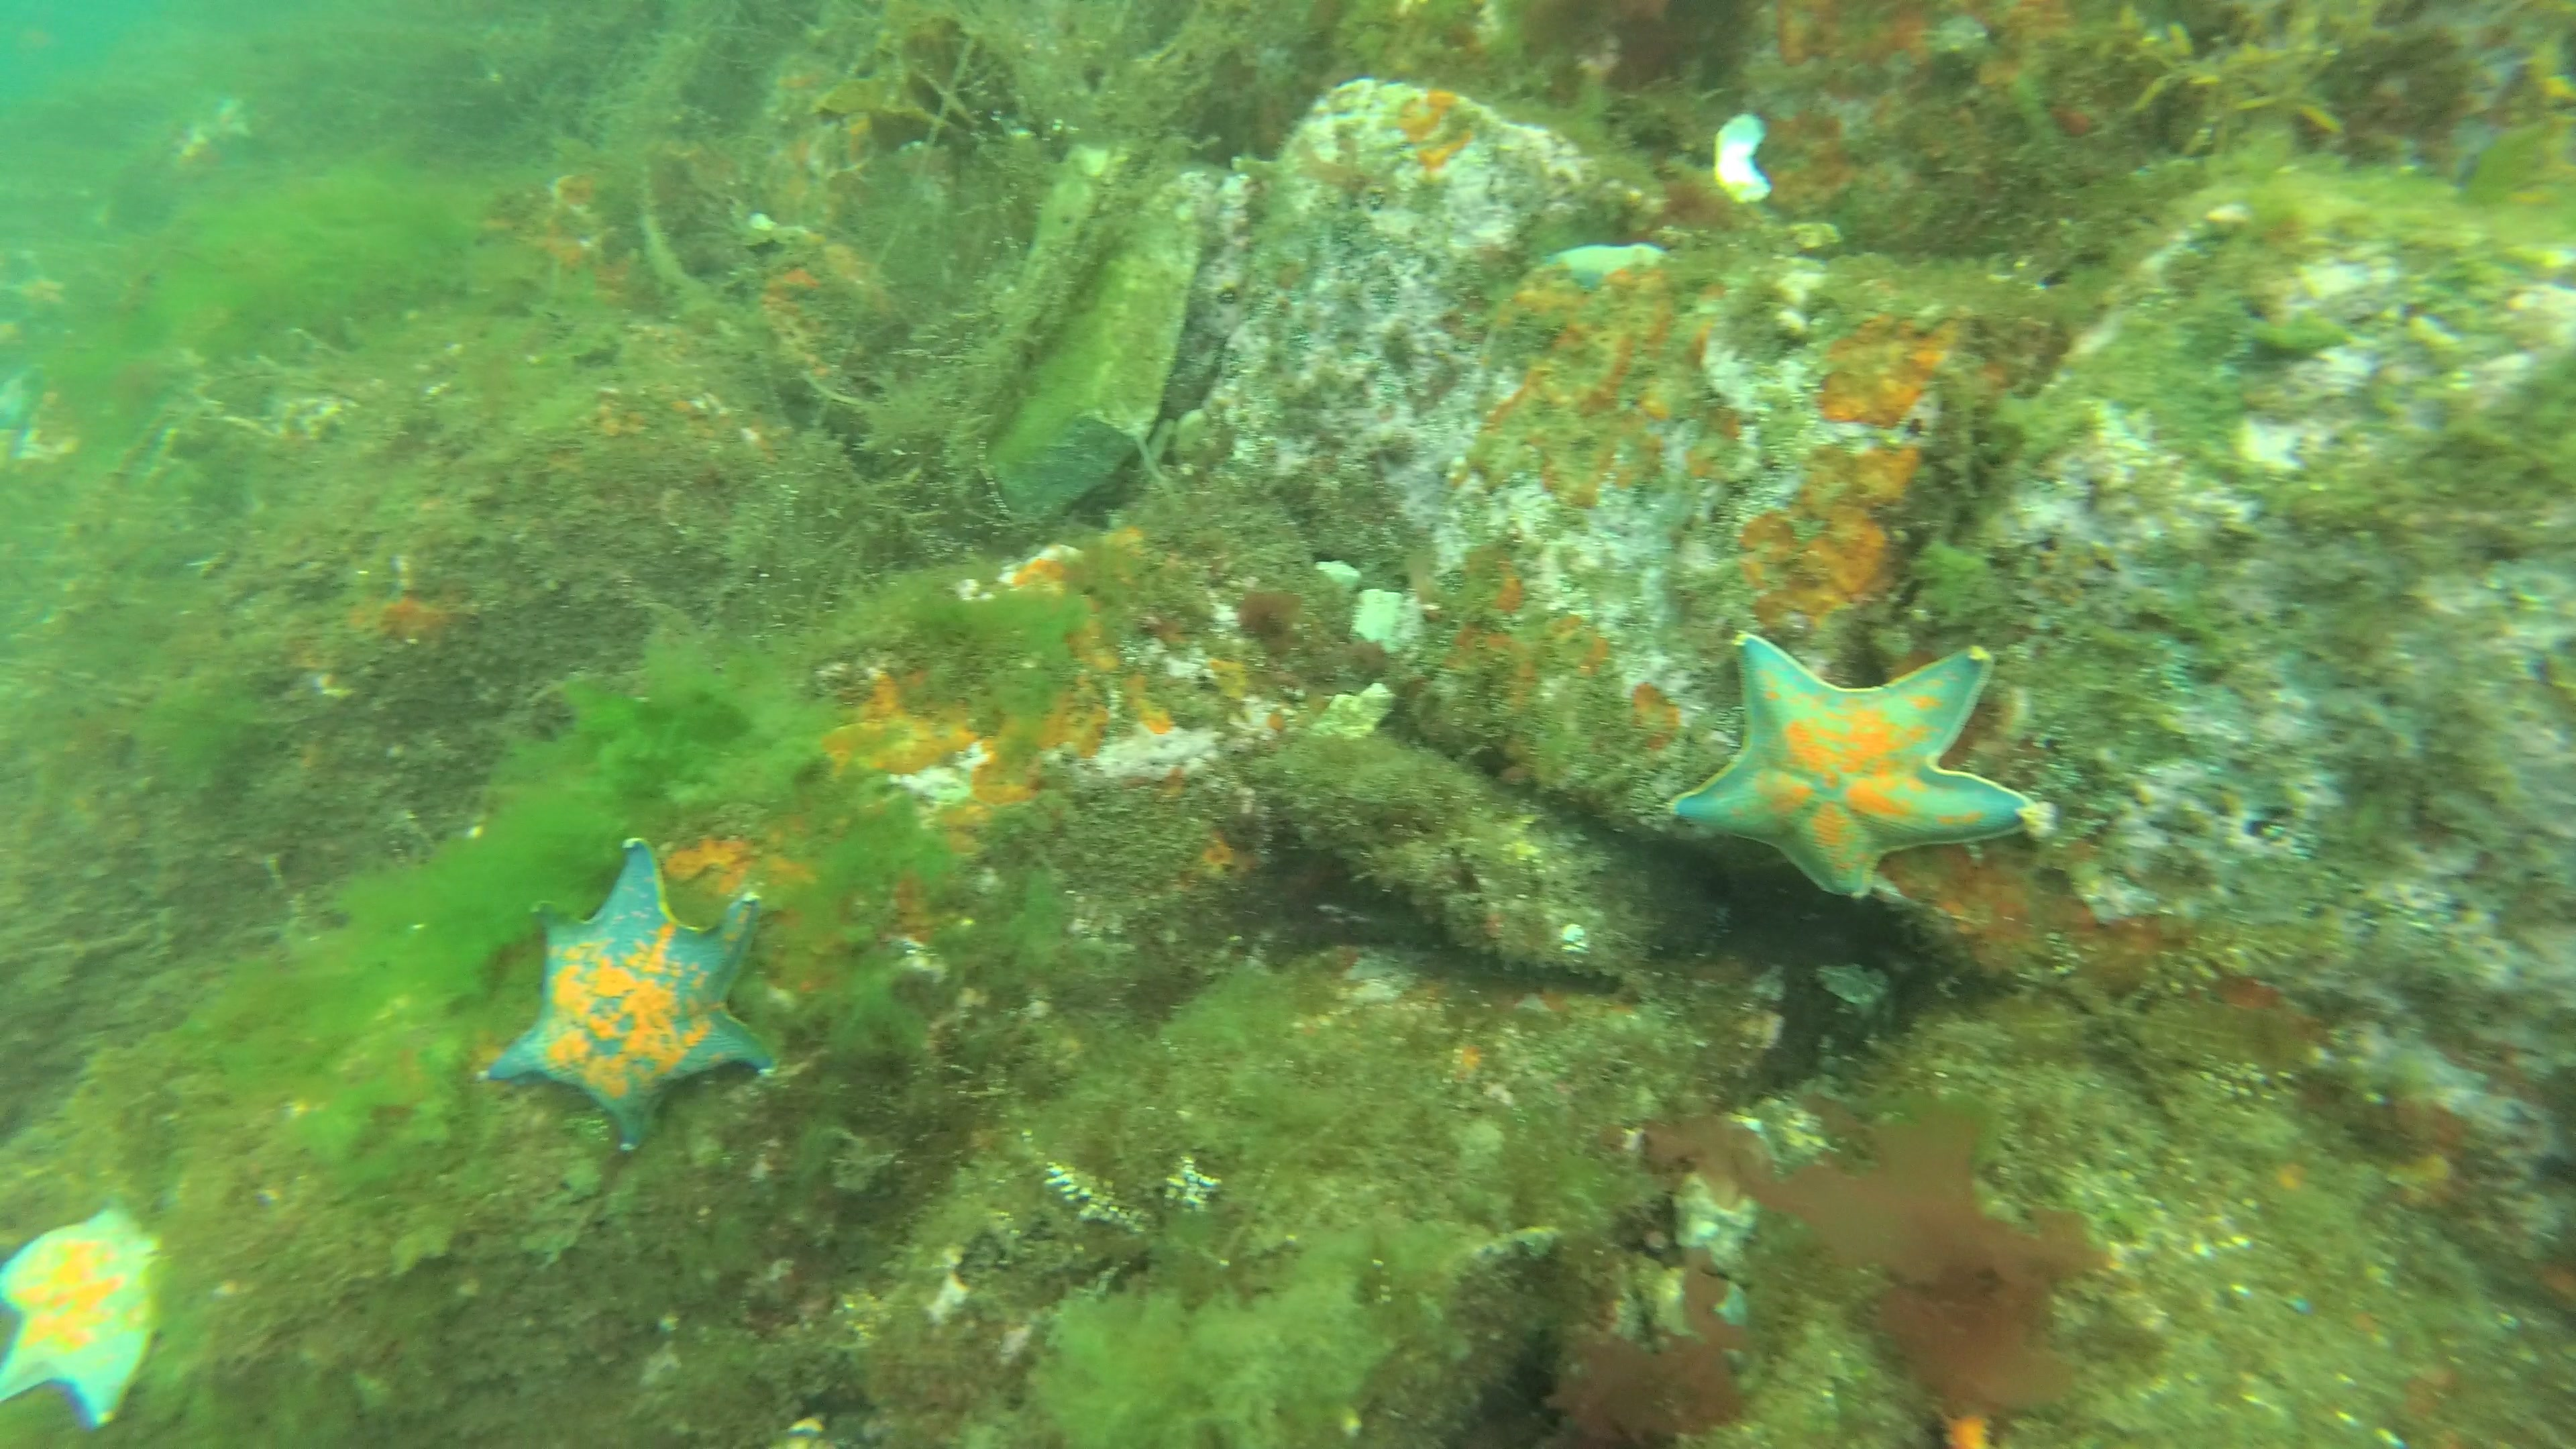starfish: (1665, 630, 2043, 906), (479, 837, 777, 1157), (0, 1201, 161, 1433), (168, 88, 257, 157), (12, 269, 76, 327), (4, 361, 50, 435)
